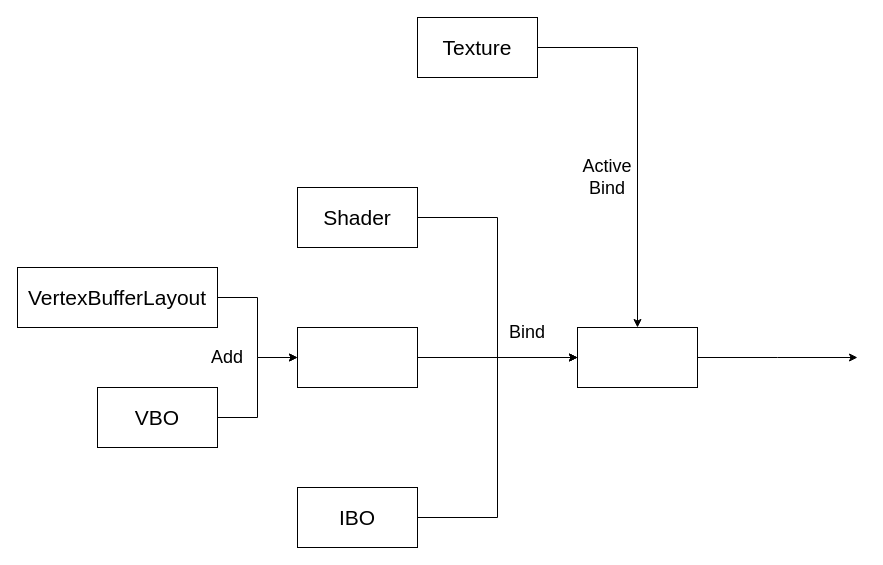
Some shapes in this 883 by 565 pixel diagram are drawn without their labels. Each missing label, with the centre of its shape:
Renderer: point 637,357
VAO: point 357,357
